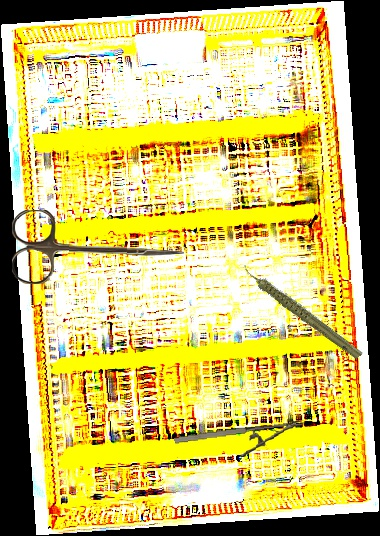Handpiece: (240, 241, 365, 380)
Iris Scissors: (11, 209, 185, 287)
Needle Holder: (173, 420, 309, 464)
